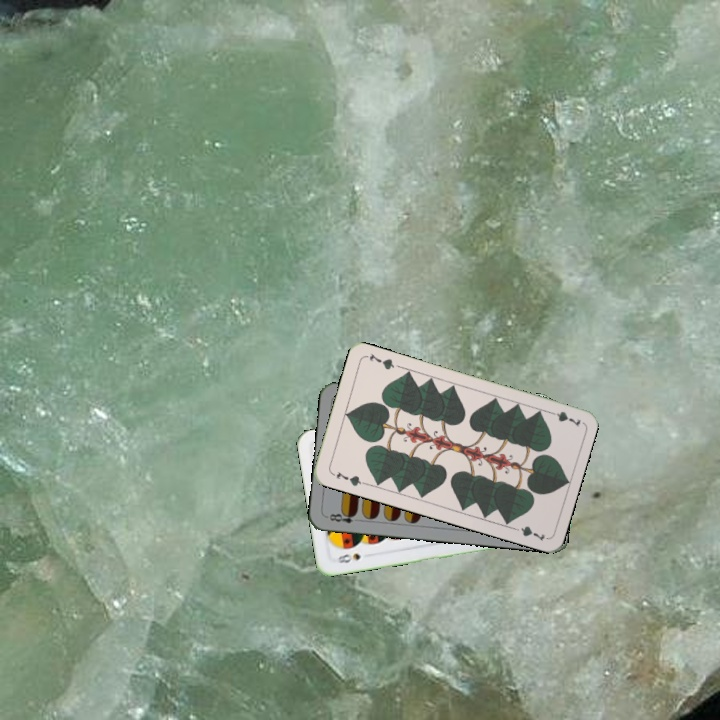E8: (323, 508, 359, 526)
G7: (328, 467, 368, 489), (543, 407, 583, 429)
S8: (334, 549, 363, 566)
